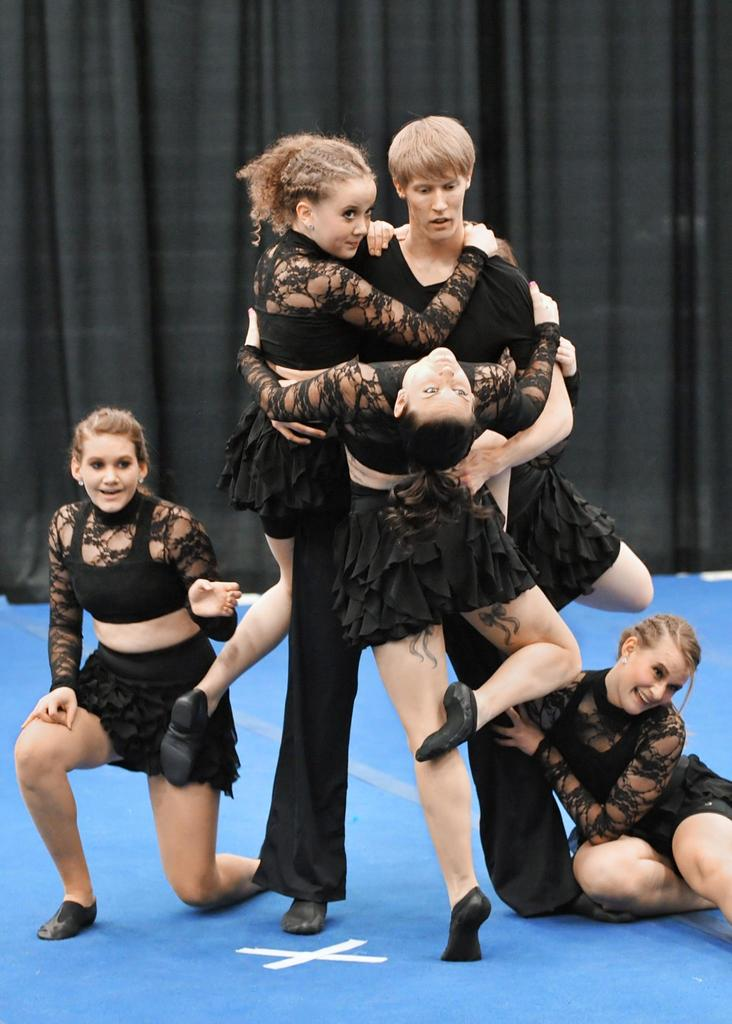Person: (14, 111, 732, 961)
